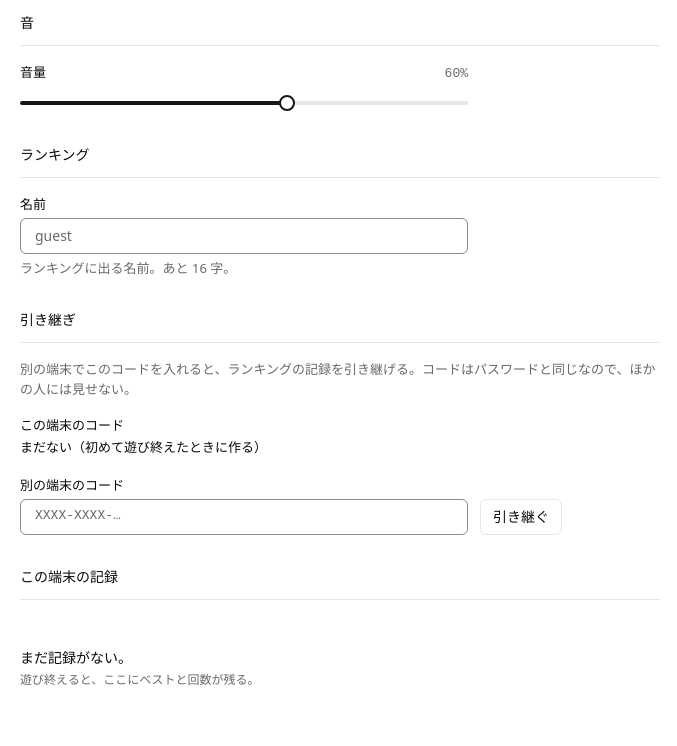
settings › AC-U11 explains an unknown code without replacing the current one
The width and height of the screenshot is (677, 746).
(page scrolled)
In the field labelled "別の端末のコード": (244,517) [33,505,455,528], type "0123456789ABCDEFGHJKMNPQRSTVWXYZ"
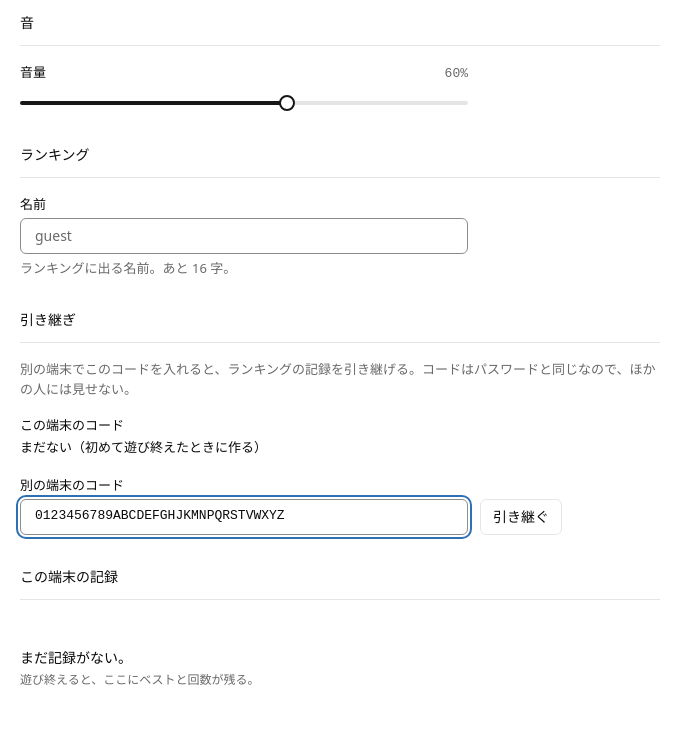
Click the button "引き継ぐ": (521,517) [480,499,562,535]
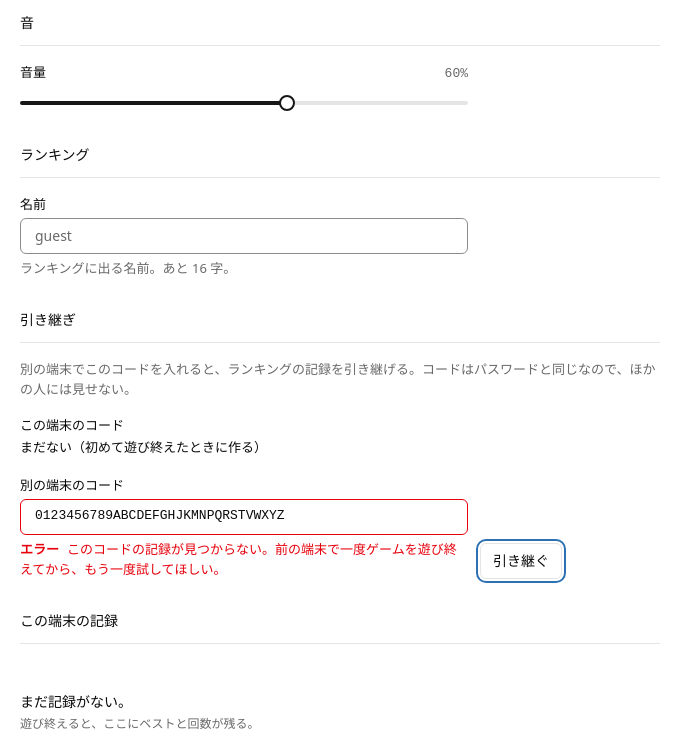
Expected: the text "このコードの記録が見つからない。" is shown, [20,540,457,578]
